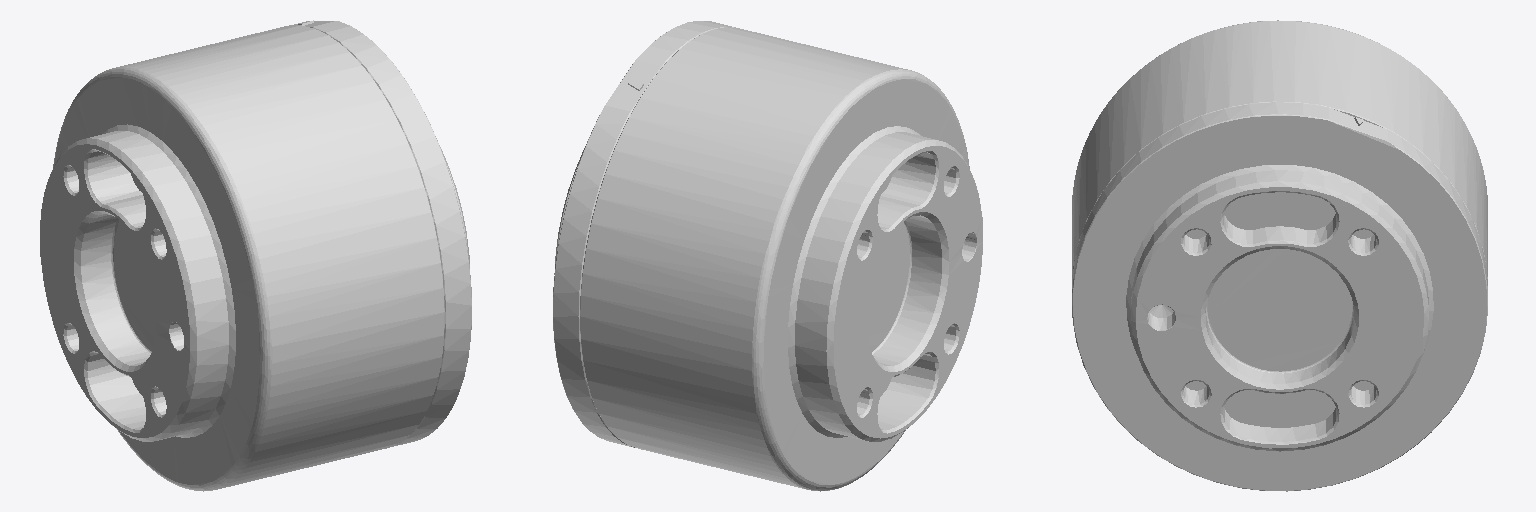
URDF robot description (panda):
<?xml version="1.0" ?>
<!-- =================================================================================== -->
<!-- |    This document was autogenerated by xacro from panda_arm_hand.urdf.xacro      | -->
<!-- |    EDITING THIS FILE BY HAND IS NOT RECOMMENDED                                 | -->
<!-- =================================================================================== -->
<robot name="panda" xmlns:xacro="http://www.ros.org/wiki/xacro">
  <link name="panda_link0">
    <visual>
      <geometry>
        <mesh filename="package://franka_description/meshes/visual/link0.dae"/>
      </geometry>
    </visual>
    <collision>
      <geometry>
        <mesh filename="package://franka_description/meshes/collision/link0.stl"/>
      </geometry>
    </collision>
  </link>
  <link name="panda_link1">
    <visual>
      <geometry>
        <mesh filename="package://franka_description/meshes/visual/link1.dae"/>
      </geometry>
    </visual>
    <collision>
      <geometry>
        <mesh filename="package://franka_description/meshes/collision/link1.stl"/>
      </geometry>
    </collision>
  </link>
  <joint name="panda_joint1" type="revolute">
    <safety_controller k_position="100.0" k_velocity="40.0" soft_lower_limit="-2.8973" soft_upper_limit="2.8973"/>
    <origin rpy="0 0 0" xyz="0 0 0.333"/>
    <parent link="panda_link0"/>
    <child link="panda_link1"/>
    <axis xyz="0 0 1"/>
    <limit effort="87" lower="-2.8973" upper="2.8973" velocity="2.1750"/>
  </joint>
  <link name="panda_link2">
    <visual>
      <geometry>
        <mesh filename="package://franka_description/meshes/visual/link2.dae"/>
      </geometry>
    </visual>
    <collision>
      <geometry>
        <mesh filename="package://franka_description/meshes/collision/link2.stl"/>
      </geometry>
    </collision>
  </link>
  <joint name="panda_joint2" type="revolute">
    <safety_controller k_position="100.0" k_velocity="40.0" soft_lower_limit="-1.7628" soft_upper_limit="1.7628"/>
    <origin rpy="-1.57079632679 0 0" xyz="0 0 0"/>
    <parent link="panda_link1"/>
    <child link="panda_link2"/>
    <axis xyz="0 0 1"/>
    <limit effort="87" lower="-1.7628" upper="1.7628" velocity="2.1750"/>
  </joint>
  <link name="panda_link3">
    <visual>
      <geometry>
        <mesh filename="package://franka_description/meshes/visual/link3.dae"/>
      </geometry>
    </visual>
    <collision>
      <geometry>
        <mesh filename="package://franka_description/meshes/collision/link3.stl"/>
      </geometry>
    </collision>
  </link>
  <joint name="panda_joint3" type="revolute">
    <safety_controller k_position="100.0" k_velocity="40.0" soft_lower_limit="-2.8973" soft_upper_limit="2.8973"/>
    <origin rpy="1.57079632679 0 0" xyz="0 -0.316 0"/>
    <parent link="panda_link2"/>
    <child link="panda_link3"/>
    <axis xyz="0 0 1"/>
    <limit effort="87" lower="-2.8973" upper="2.8973" velocity="2.1750"/>
  </joint>
  <link name="panda_link4">
    <visual>
      <geometry>
        <mesh filename="package://franka_description/meshes/visual/link4.dae"/>
      </geometry>
    </visual>
    <collision>
      <geometry>
        <mesh filename="package://franka_description/meshes/collision/link4.stl"/>
      </geometry>
    </collision>
  </link>
  <joint name="panda_joint4" type="revolute">
    <safety_controller k_position="100.0" k_velocity="40.0" soft_lower_limit="-3.0718" soft_upper_limit="-0.0698"/>
    <origin rpy="1.57079632679 0 0" xyz="0.0825 0 0"/>
    <parent link="panda_link3"/>
    <child link="panda_link4"/>
    <axis xyz="0 0 1"/>
    <limit effort="87" lower="-3.0718" upper="-0.0698" velocity="2.1750"/>
  </joint>
  <link name="panda_link5">
    <visual>
      <geometry>
        <mesh filename="package://franka_description/meshes/visual/link5.dae"/>
      </geometry>
    </visual>
    <collision>
      <geometry>
        <mesh filename="package://franka_description/meshes/collision/link5.stl"/>
      </geometry>
    </collision>
  </link>
  <joint name="panda_joint5" type="revolute">
    <safety_controller k_position="100.0" k_velocity="40.0" soft_lower_limit="-2.8973" soft_upper_limit="2.8973"/>
    <origin rpy="-1.57079632679 0 0" xyz="-0.0825 0.384 0"/>
    <parent link="panda_link4"/>
    <child link="panda_link5"/>
    <axis xyz="0 0 1"/>
    <limit effort="12" lower="-2.8973" upper="2.8973" velocity="2.6100"/>
  </joint>
  <link name="panda_link6">
    <visual>
      <geometry>
        <mesh filename="package://franka_description/meshes/visual/link6.dae"/>
      </geometry>
    </visual>
    <collision>
      <geometry>
        <mesh filename="package://franka_description/meshes/collision/link6.stl"/>
      </geometry>
    </collision>
  </link>
  <joint name="panda_joint6" type="revolute">
    <safety_controller k_position="100.0" k_velocity="40.0" soft_lower_limit="-0.0175" soft_upper_limit="3.7525"/>
    <origin rpy="1.57079632679 0 0" xyz="0 0 0"/>
    <parent link="panda_link5"/>
    <child link="panda_link6"/>
    <axis xyz="0 0 1"/>
    <limit effort="12" lower="-0.0175" upper="3.7525" velocity="2.6100"/>
  </joint>
  <link name="panda_link7">
    <visual>
      <geometry>
        <mesh filename="package://franka_description/meshes/visual/link7.dae"/>
      </geometry>
    </visual>
    <collision>
      <geometry>
        <mesh filename="package://franka_description/meshes/collision/link7.stl"/>
      </geometry>
    </collision>
  </link>
  <joint name="panda_joint7" type="revolute">
    <safety_controller k_position="100.0" k_velocity="40.0" soft_lower_limit="-2.8973" soft_upper_limit="2.8973"/>
    <origin rpy="1.57079632679 0 0" xyz="0.088 0 0"/>
    <parent link="panda_link6"/>
    <child link="panda_link7"/>
    <axis xyz="0 0 1"/>
    <limit effort="12" lower="-2.8973" upper="2.8973" velocity="2.6100"/>
  </joint>

  <link name="ft_sensor_link">
    <visual>
      <geometry>
        <mesh filename="package://authoring/meshes/force_torque_sensor.dae"/>
      </geometry>
    </visual>
    <collision>
      <geometry>
        <mesh filename="package://authoring/meshes/force_torque_sensor.stl"/>
      </geometry>
    </collision>
  </link>
  <joint name="ft_sensor_joint" type="fixed">
    <origin rpy="0 0 0" xyz="0 0 0.062"/>
    <parent link="panda_link7"/>
    <child link="ft_sensor_link"/>
    <axis xyz="0 0 0"/>
  </joint>

  <link name="panda_link8"/>
  <joint name="panda_joint8" type="fixed">
    <!--<origin rpy="0 0 0" xyz="0 0 0.107"/>-->
    <origin rpy="0 0 0" xyz="0 0 0.11"/> <!--Added offset for FT sensor-->
    <parent link="ft_sensor_link"/>
    <child link="panda_link8"/>
    <axis xyz="0 0 0"/>
  </joint>
  <joint name="panda_hand_joint" type="fixed">
    <parent link="panda_link8"/>
    <child link="panda_hand"/>
    <origin rpy="0 0 -0.785398163397" xyz="0 0 0"/>
  </joint>
  <link name="panda_hand">
    <visual>
      <geometry>
        <mesh filename="package://franka_description/meshes/visual/hand.dae"/>
      </geometry>
    </visual>
    <collision>
      <geometry>
        <mesh filename="package://franka_description/meshes/collision/hand.stl"/>
      </geometry>
    </collision>
  </link>
  <link name="panda_leftfinger">
    <visual>
      <geometry>
        <mesh filename="package://franka_description/meshes/visual/finger.dae"/>
      </geometry>
    </visual>
    <collision>
      <geometry>
        <mesh filename="package://franka_description/meshes/collision/finger.stl"/>
      </geometry>
    </collision>
  </link>
  <link name="panda_rightfinger">
    <visual>
      <origin rpy="0 0 3.14159265359" xyz="0 0 0"/>
      <geometry>
        <mesh filename="package://franka_description/meshes/visual/finger.dae"/>
      </geometry>
    </visual>
    <collision>
      <origin rpy="0 0 3.14159265359" xyz="0 0 0"/>
      <geometry>
        <mesh filename="package://franka_description/meshes/collision/finger.stl"/>
      </geometry>
    </collision>
  </link>
  <joint name="panda_finger_joint1" type="prismatic">
    <parent link="panda_hand"/>
    <child link="panda_leftfinger"/>
    <origin rpy="0 0 0" xyz="0 0 0.0584"/>
    <axis xyz="0 1 0"/>
    <limit effort="20" lower="0.0" upper="0.04" velocity="0.2"/>
  </joint>
  <joint name="panda_finger_joint2" type="prismatic">
    <parent link="panda_hand"/>
    <child link="panda_rightfinger"/>
    <origin rpy="0 0 0" xyz="0 0 0.0584"/>
    <axis xyz="0 -1 0"/>
    <limit effort="20" lower="0.0" upper="0.04" velocity="0.2"/>
    <mimic joint="panda_finger_joint1"/>
  </joint>

  <link name="panda_gripper" />
  <joint name="panda_gripper" type="fixed">
    <origin rpy="-0.000 0.000 -0.785" xyz="-0.000 -0.000 0.103" />
    <parent link="panda_link8"/>
    <child link="panda_gripper"/>
    <axis xyz="0 0 0"/>
  </joint>

</robot>

--- Facts derived from the render (not from the file) ---
The picture shows the robot from 3 angles, left to right: view 1: azimuth 30°, elevation 25°; view 2: azimuth 150°, elevation 25°; view 3: azimuth 270°, elevation 25°; orthographic projection.
Robot: panda — 14 links, 13 joints (7 revolute, 2 prismatic, 4 fixed); root link panda_link0; default pose: all joints at 0 but 1 set to mid-range because 0 is outside their limits (panda_joint4 = -1.57).
Links seen in each view (by area): view 1: ft_sensor_link; view 2: ft_sensor_link; view 3: ft_sensor_link.
Link boxes in pixels (x1,y1,x2,y2): ft_sensor_link: (40,20,471,491); ft_sensor_link: (553,21,982,491); ft_sensor_link: (1072,20,1487,491).
Size in the robot's own frame: 0.0656 by 0.088 by 0.088 metres.
Meshes: 11 distinct files referenced, 1 mesh visuals loaded (1 Collada DAE); not drawn: 11 (reference not matched to a file when rendering).